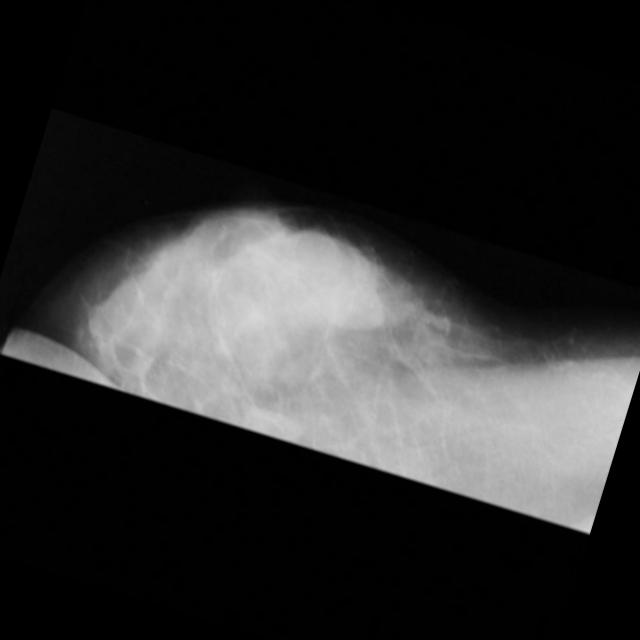CALC: (400, 285, 460, 345)
